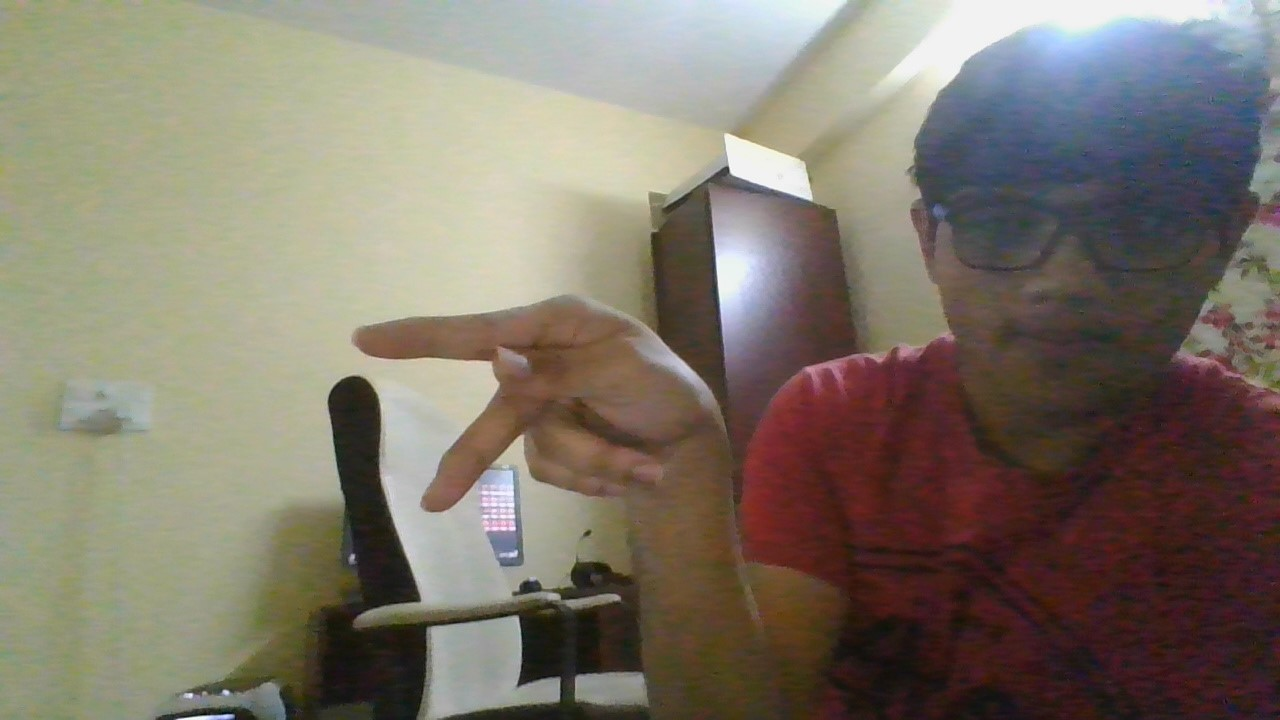p: (349, 289, 718, 516)
